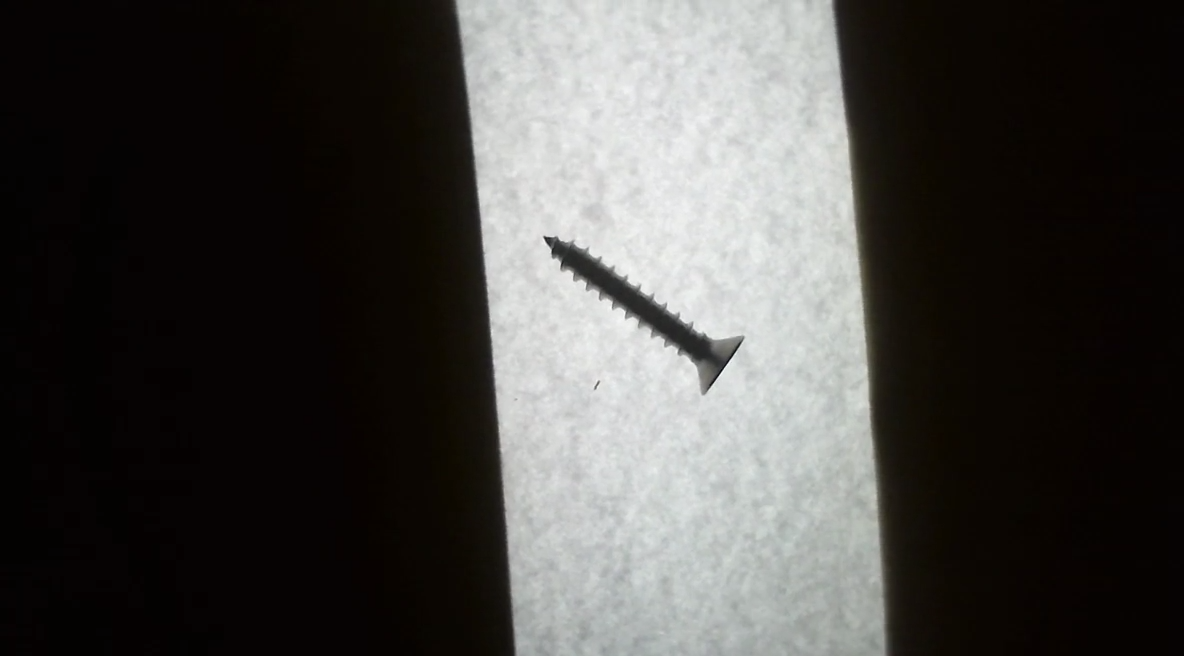S001: (522, 218, 755, 409)
